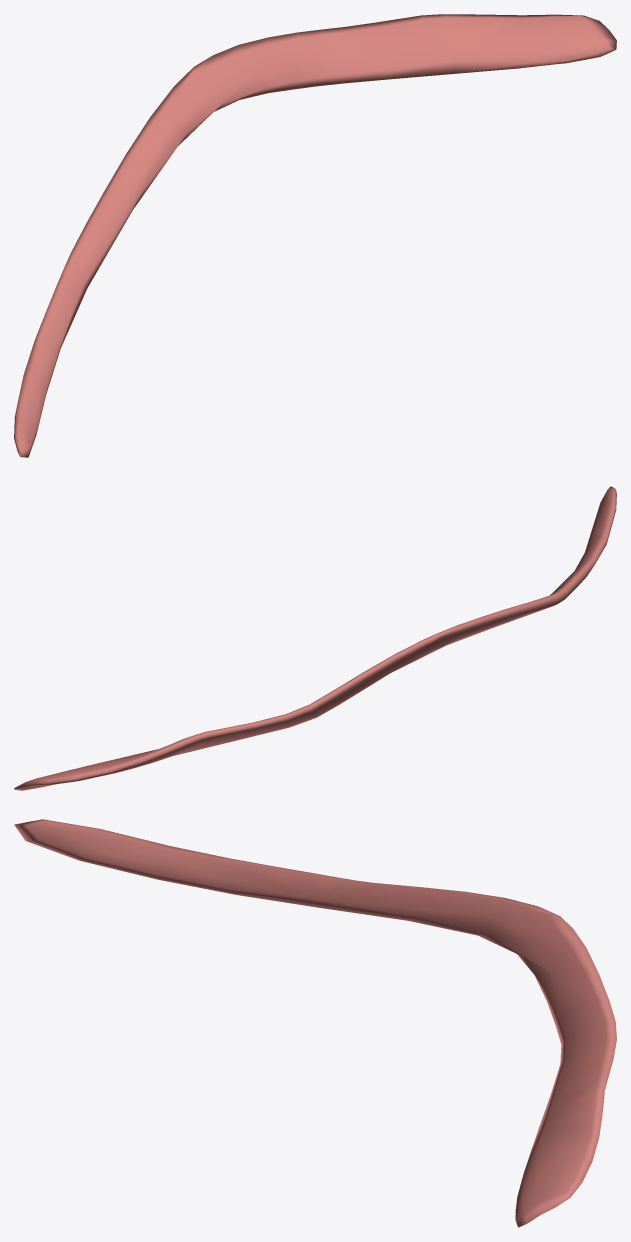
3 renders of one model, top to bottom at view 1: azimuth 30°, elevation 25°; view 2: azimuth 210°, elevation 25°; view 3: azimuth 270°, elevation 25°, orthographic. The views are drawn at different scales.
Visible parts, largest first — view 1: ZA_b82df62ef79b5b31; view 2: ZA_b82df62ef79b5b31; view 3: ZA_b82df62ef79b5b31.
Part boxes in pixels (box(x1,y1,x2,y2)): ZA_b82df62ef79b5b31: box(14, 14, 616, 457); ZA_b82df62ef79b5b31: box(14, 486, 616, 790); ZA_b82df62ef79b5b31: box(14, 819, 616, 1227).
Bounding box in the file's own units: 0.0405 × 0.00623 × 0.0222.
